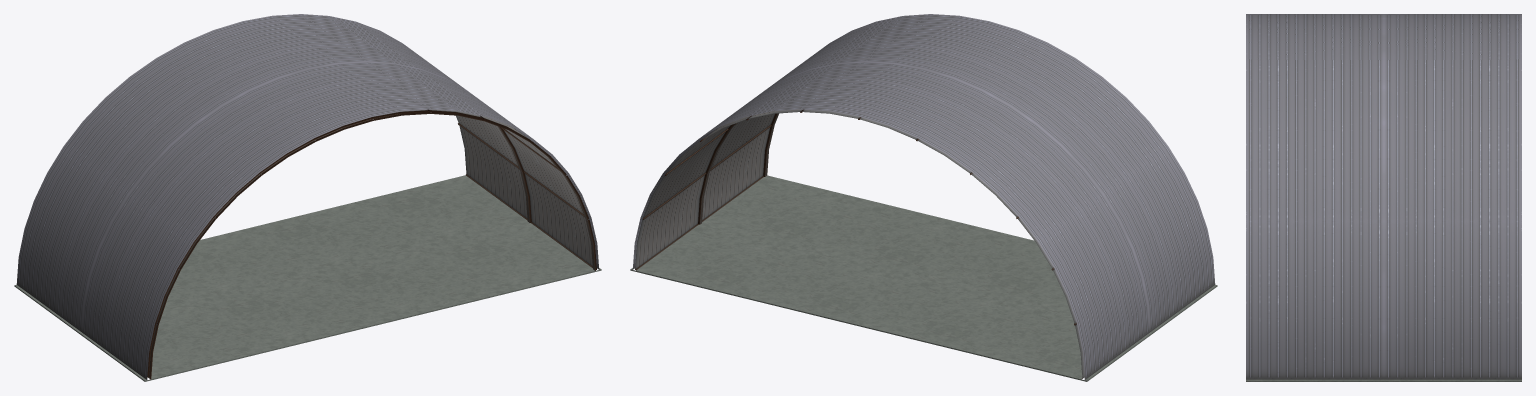
Rendered from Warehouse02_1.FBX.
3 views of the same model, side by side, from view 1: azimuth 30°, elevation 25°; view 2: azimuth 150°, elevation 25°; view 3: azimuth 270°, elevation 25° (orthographic). The views are drawn at different scales.
Parts seen in each view (by area): view 1: Warehouse02_1; view 2: Warehouse02_1; view 3: Warehouse02_1.
Boxes of the visible parts, <box> form: Warehouse02_1: <box>14,14,601,381</box>; Warehouse02_1: <box>630,14,1217,381</box>; Warehouse02_1: <box>1246,14,1521,381</box>.
Size of what is drawn, in the model's own units: 20.2 by 8.86 by 10.
